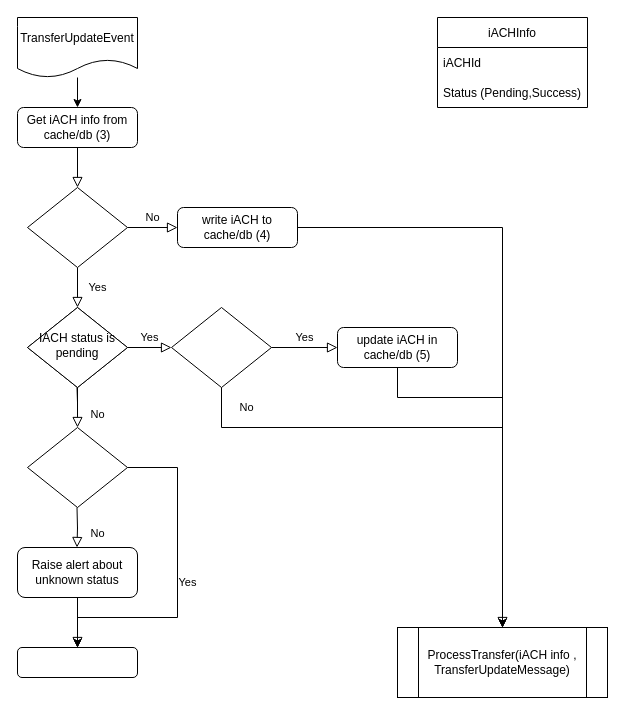
Image size: 625x715. Some labels were removed from this diagram. The shapes that lost their labels are listed below. From the top down, each one's centre as x and y in pixels, then its label:
At (77,227): "iACH found".
At (221,347): "Received Transfer status is Success".
At (77,467): "IACH status is success".
At (77,662): "Discard Event (2)".
